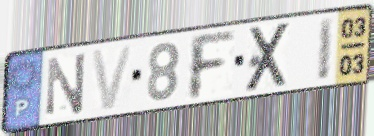8: (146, 40, 183, 103)
F: (187, 30, 237, 103)
I: (315, 14, 336, 84)
N: (45, 50, 88, 118)
V: (89, 43, 136, 114)
X: (243, 19, 294, 95)
